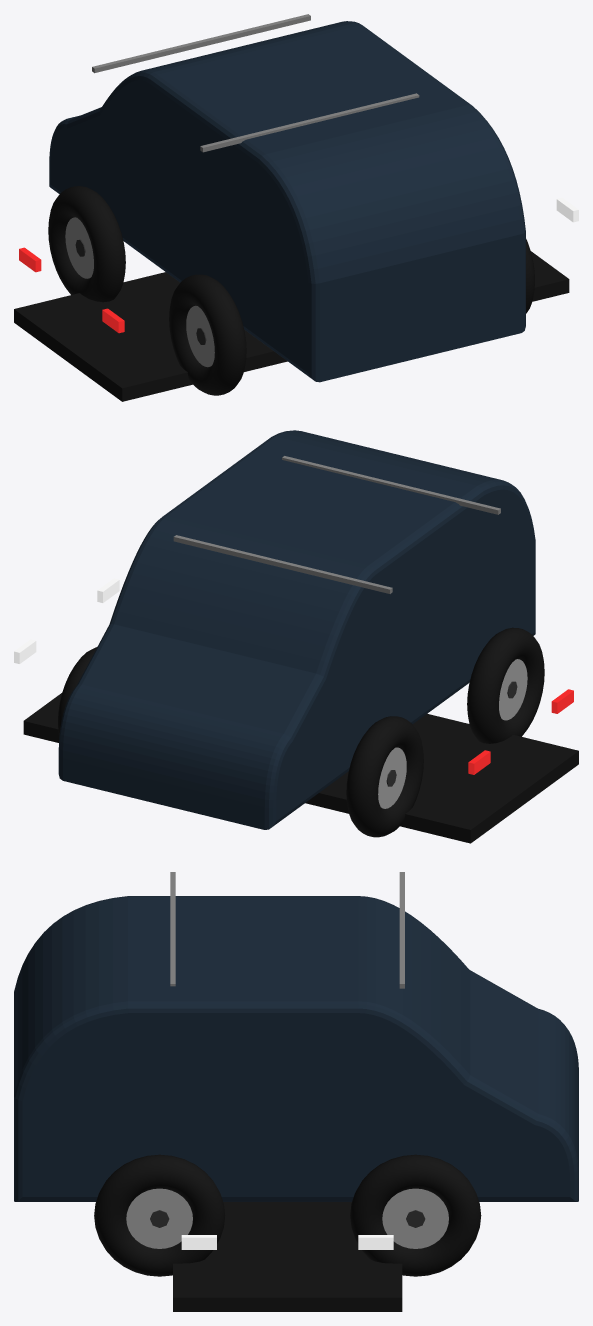
Rendered from suv.glb.
3 views of the same model, one above another, from view 1: azimuth 30°, elevation 25°; view 2: azimuth 150°, elevation 25°; view 3: azimuth 270°, elevation 25° (orthographic). The views are drawn at different scales.
Size of the model in its own units: 6.39 by 3.17 by 6.4.
